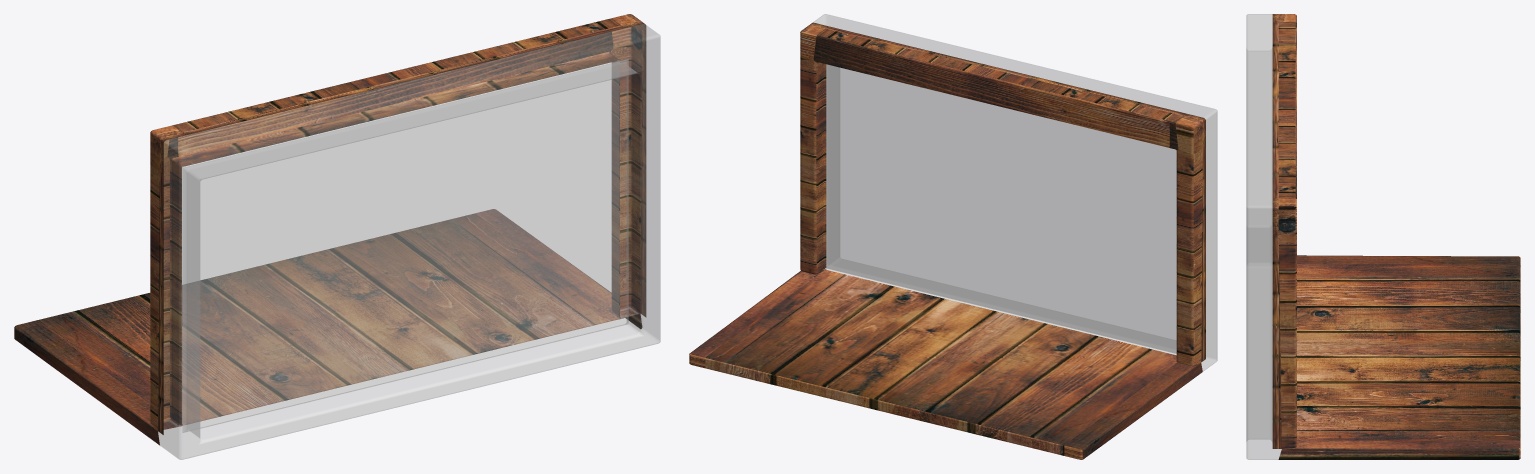
File: Fenster1.fbx
3 views of the same model, side by side, from view 1: azimuth 30°, elevation 25°; view 2: azimuth 150°, elevation 25°; view 3: azimuth 270°, elevation 25° (orthographic). The views are drawn at different scales.
Visible parts, largest first — view 1: Fenster; view 2: Fenster; view 3: Fenster.
Part boxes in pixels (box(x1,y1,x2,y2)): Fenster: box(14, 14, 660, 459); Fenster: box(689, 14, 1217, 459); Fenster: box(1246, 14, 1520, 459).
Bounding box in the file's own units: 400 × 245 × 239.
